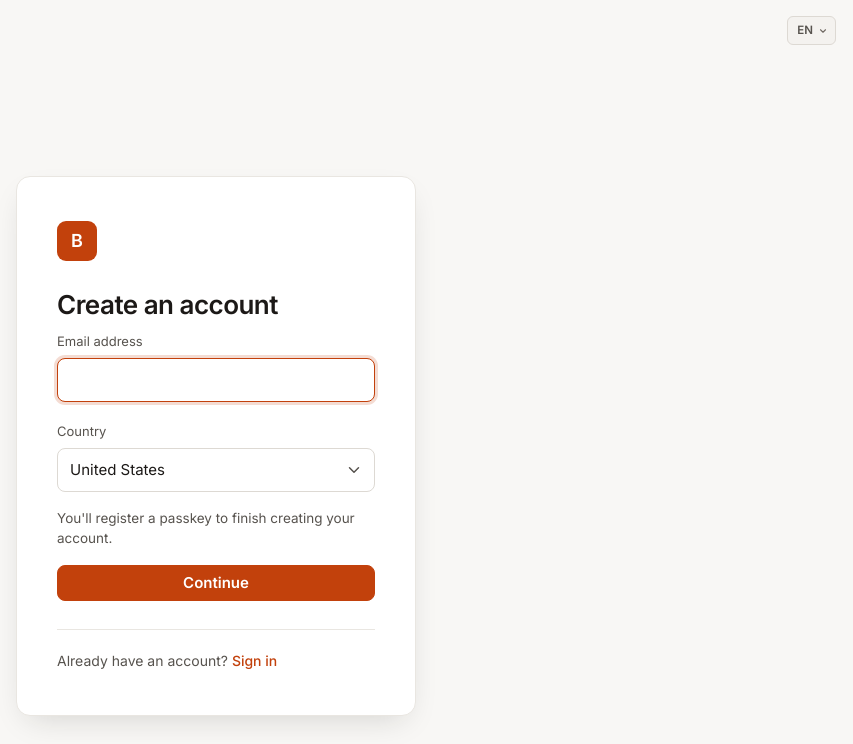
Test: RegisterPage › registers and replaces the form with a persistent check-your-inbox panel
This screenshot has width=853, height=744.
In the field with id "register-email": (216, 380) [57,358,375,402], type "member@example.com"
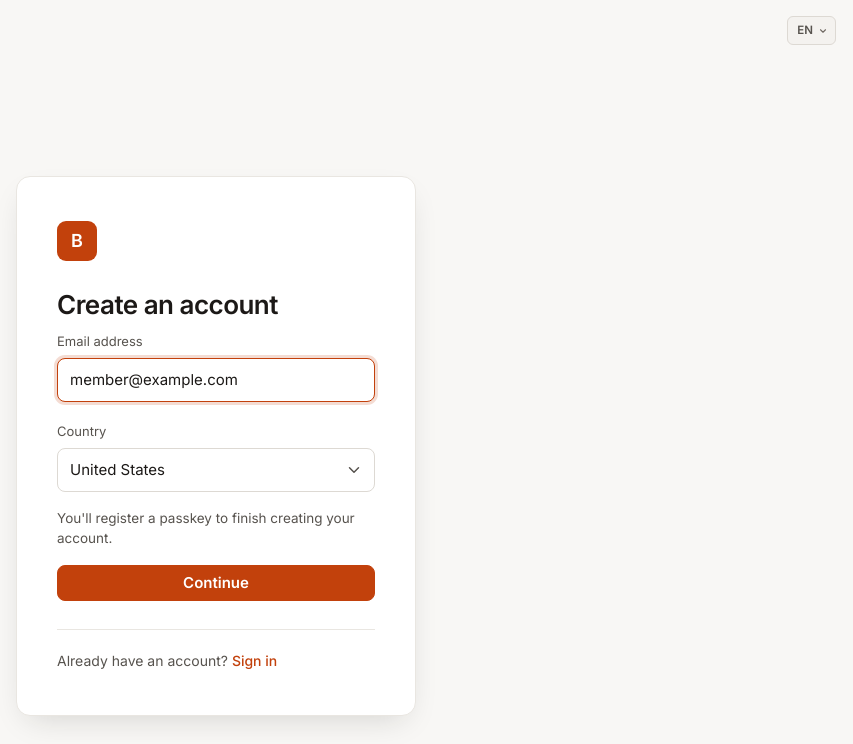
Select "FR" in the dropdown with id "register-country": (216, 470) [57,448,375,492]
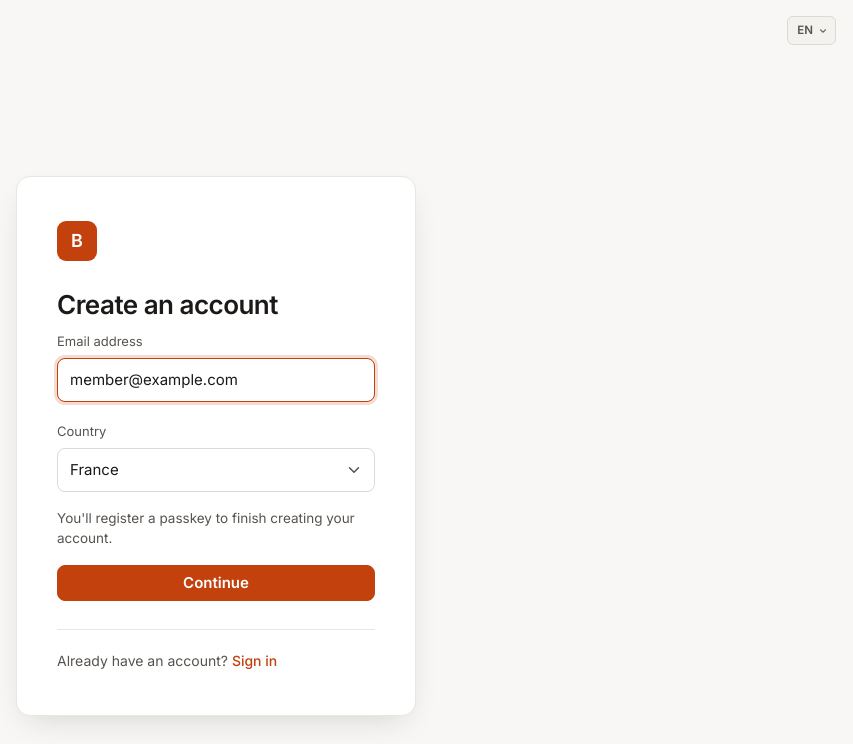
Submit the form, box [57,328,375,601]
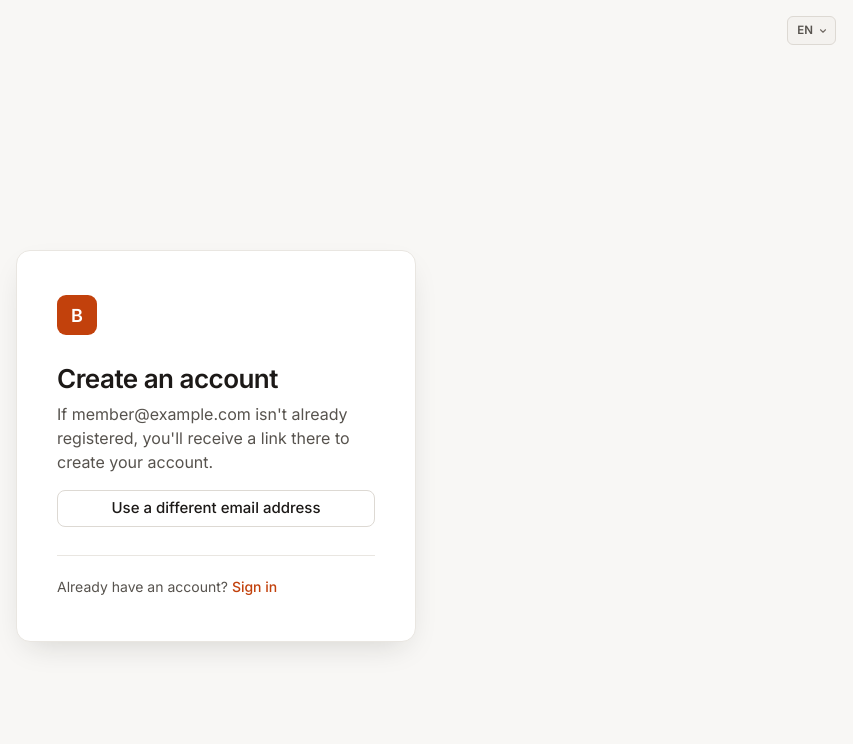
Check: the text "If member@example.com isn't already registered, you'll receive a link there to create your account." is shown, box [57,404,350,472]
